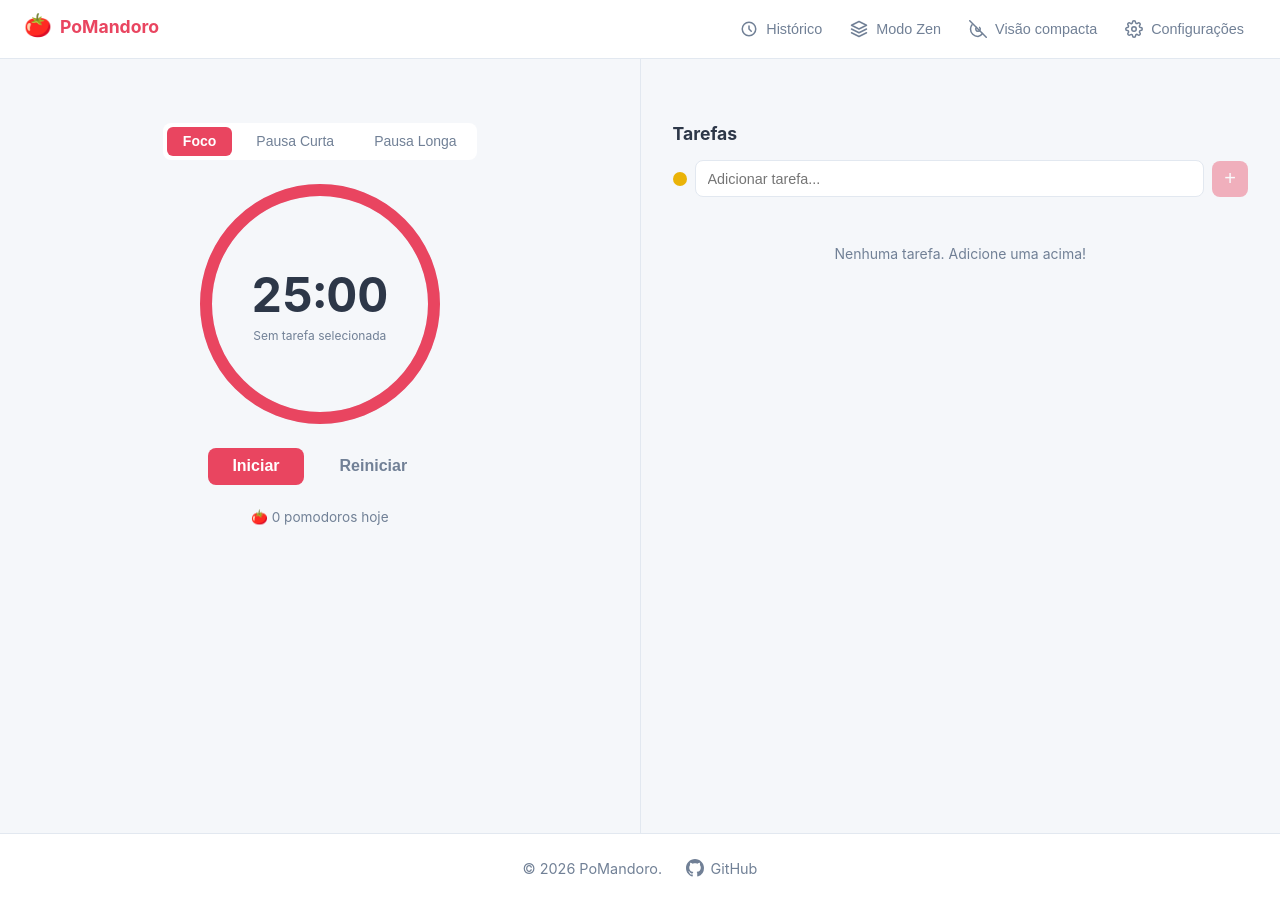
Test: App Component › toggles zen mode
Click the button "Modo Zen" at x=896, y=29, box [838,12,953,46]
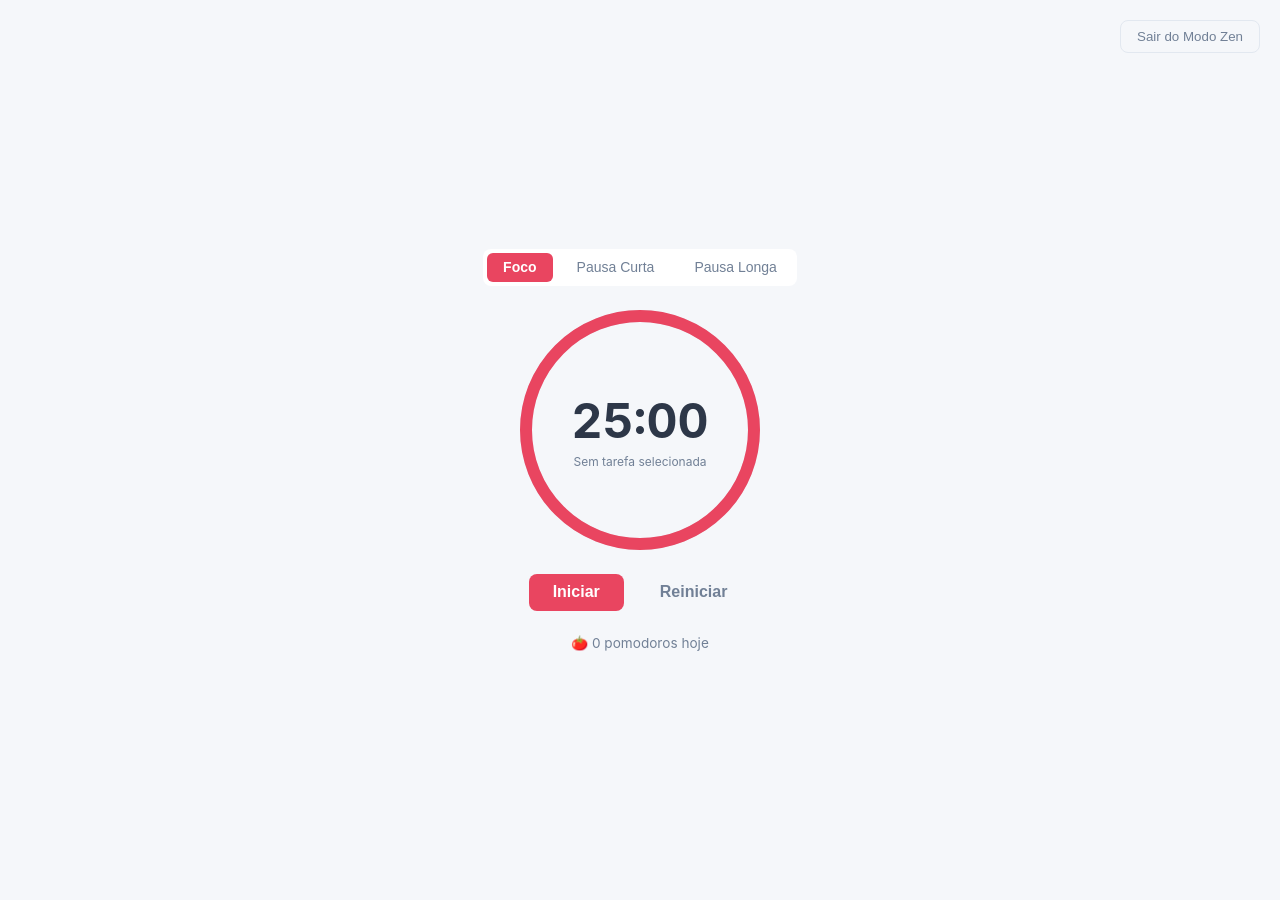
Check: the text "PoMandoro" is gone
